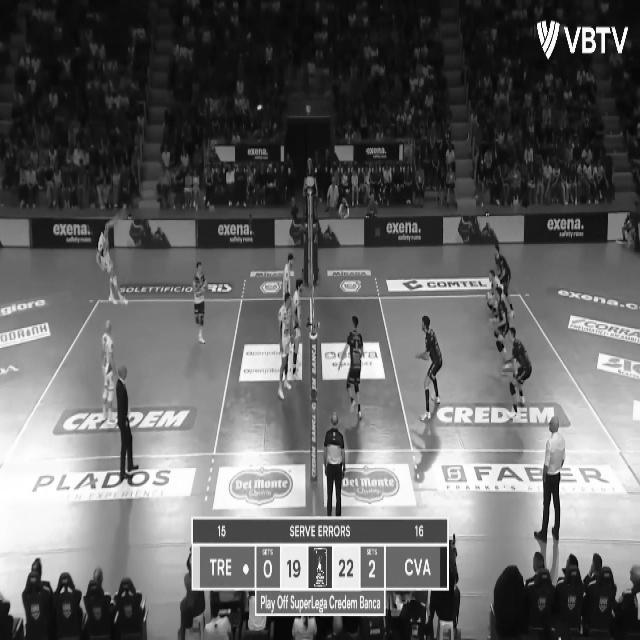volleyball court: (4, 291, 629, 458)
